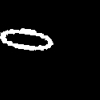chain: (0, 28, 52, 49)
